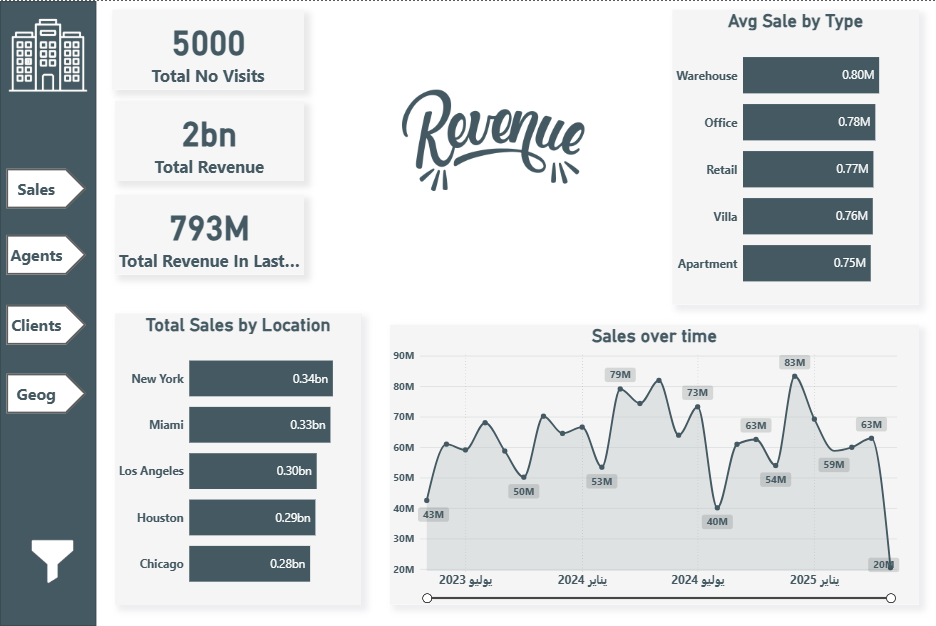

The page's visual inventory and layout, read from the dashboard file:
{"tool":"powerbi","page":{"name":"Sales","canvas":[1500,1000],"ordinal":0},"visuals":[{"type":"group","id":"g1","title":"Group 1","box":[0,0,154,1000],"z":0,"group":"g2"},{"type":"shape","box":[0,0,154,1000],"z":0,"group":"g1"},{"type":"lineChart","title":"Sales over time","fields":{"Category":["SalesDateTable.Date.Variation.Date Hierarchy.Year","SalesDateTable.Date.Variation.Date Hierarchy.Quarter","SalesDateTable.Date.Variation.Date Hierarchy.Month"],"Y":["Sum(Sales.SalePrice)"]},"box":[624,518,846,448],"z":0},{"type":"image","box":[8,14,138,146],"z":1000,"group":"g2"},{"type":"actionButton","box":[10,268,128,64],"z":1000,"group":"g1"},{"type":"clusteredBarChart","title":"Total Sales by Location","fields":{"Category":["Properties.Location"],"Y":["Sum(Sales.SalePrice)"]},"box":[184,500,394,466],"z":1000},{"type":"image","title":"Filter btn","box":[30,856,88,82],"z":1000,"group":"g3"},{"type":"group","id":"g2","title":"Group 2","box":[0,0,154,1000],"z":2000,"group":"g3"},{"type":"clusteredBarChart","title":"Avg Sale by Type","fields":{"Y":["Avg(Sales.SalePrice)"],"Category":["Properties.PropertyType"]},"box":[1076,14,394,472],"z":2000},{"type":"actionButton","box":[10,374,128,64],"z":2000,"group":"g1"},{"type":"image","title":"Filter btn","box":[40,856,88,82],"z":2500,"group":"g3"},{"type":"card","fields":{"Values":["_Measure.Total No Visits"]},"box":[180,14,306,128],"z":3000},{"type":"actionButton","box":[10,486,128,64],"z":3000,"group":"g1"},{"type":"card","fields":{"Values":["_Measure.Total Revenue"]},"box":[184,160,302,128],"z":4000},{"type":"actionButton","box":[10,596,128,64],"z":4000,"group":"g1"},{"type":"card","fields":{"Values":["_Measure.Total Revenue In Last Year"]},"box":[184,310,302,128],"z":5000},{"type":"image","box":[548,72,482,302],"z":6000},{"type":"group","id":"g3","title":"Group 4","box":[0,0,548,1000],"z":7000}]}

Visuals, with their boxes in screenshot pixels (x1, y1, x2, y2), scaled from the page's 1500x1000 canvas onto the 936x626 screenshot:
"Group 1" group: bbox=(0, 0, 96, 625)
shape: bbox=(0, 0, 96, 625)
"Sales over time" lineChart: bbox=(389, 324, 917, 605)
image: bbox=(5, 9, 91, 100)
actionButton: bbox=(6, 168, 86, 208)
"Total Sales by Location" clusteredBarChart: bbox=(115, 313, 361, 605)
"Filter btn" image: bbox=(19, 536, 74, 587)
"Group 2" group: bbox=(0, 0, 96, 625)
"Avg Sale by Type" clusteredBarChart: bbox=(671, 9, 917, 304)
actionButton: bbox=(6, 234, 86, 274)
"Filter btn" image: bbox=(25, 536, 80, 587)
card - _Measure.Total No Visits: bbox=(112, 9, 303, 89)
actionButton: bbox=(6, 304, 86, 344)
card - _Measure.Total Revenue: bbox=(115, 100, 303, 180)
actionButton: bbox=(6, 373, 86, 413)
card - _Measure.Total Revenue In Last Year: bbox=(115, 194, 303, 274)
image: bbox=(342, 45, 643, 234)
"Group 4" group: bbox=(0, 0, 342, 625)
